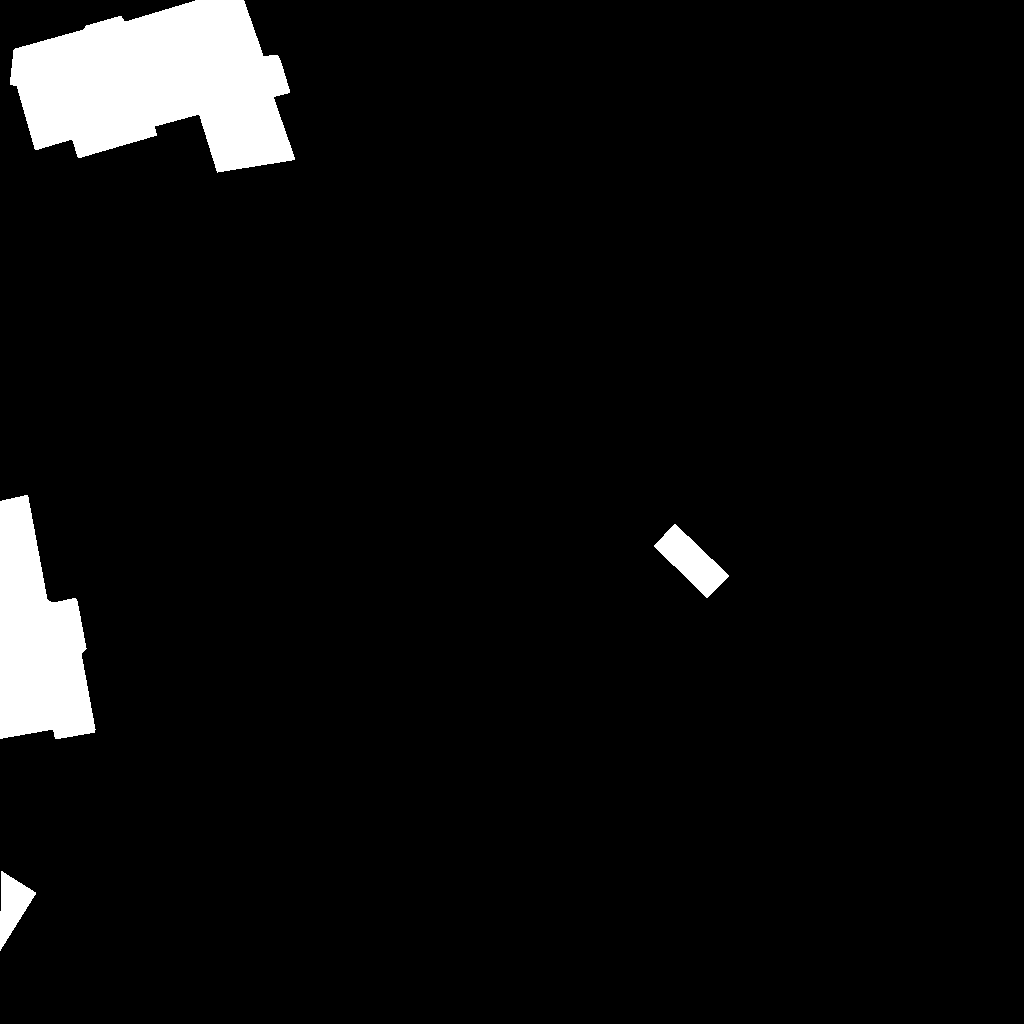building: (10, 0, 296, 173), (0, 495, 96, 740), (654, 524, 730, 599), (0, 871, 37, 952)
